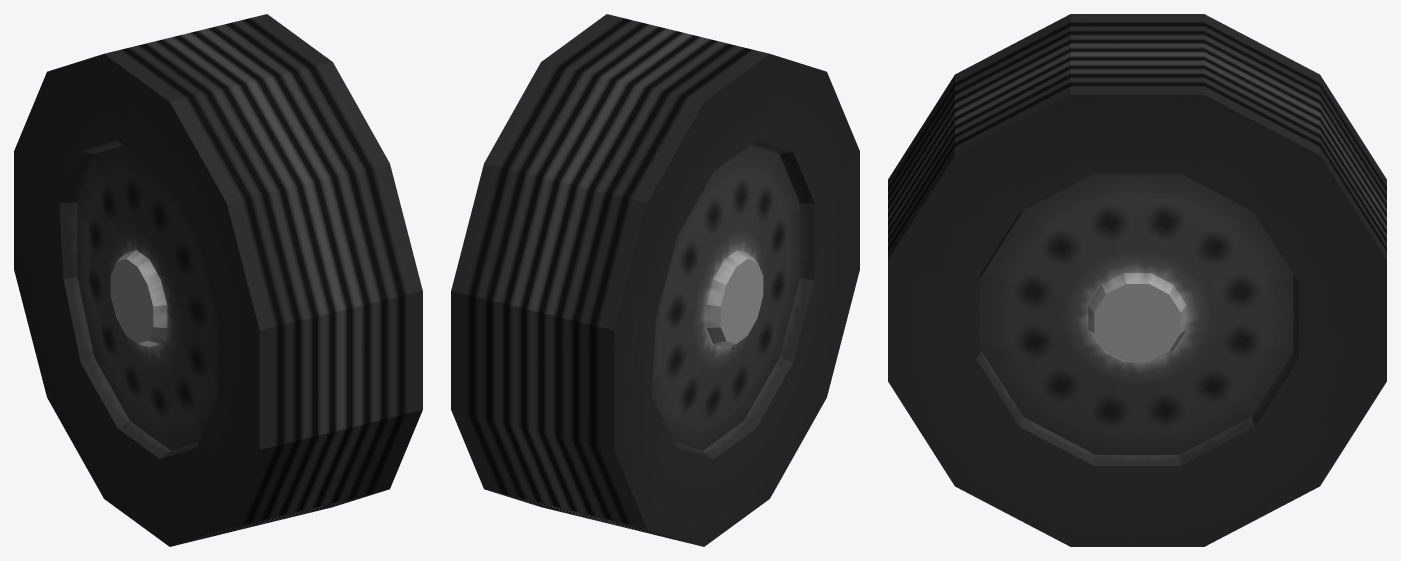
Rendered from LeGranWheelF.fbx.
3 views of the same model, side by side, from view 1: azimuth 30°, elevation 25°; view 2: azimuth 150°, elevation 25°; view 3: azimuth 270°, elevation 25° (orthographic).
Parts seen in each view (by area): view 1: WheelLeGranB.001; view 2: WheelLeGranB.001; view 3: WheelLeGranB.001.
Part boxes in pixels (bbox=[...]): WheelLeGranB.001: bbox=[14, 14, 422, 546]; WheelLeGranB.001: bbox=[451, 14, 859, 546]; WheelLeGranB.001: bbox=[888, 14, 1386, 546].
Size of the model in its own units: 0.4405 by 1.08 by 1.08.
